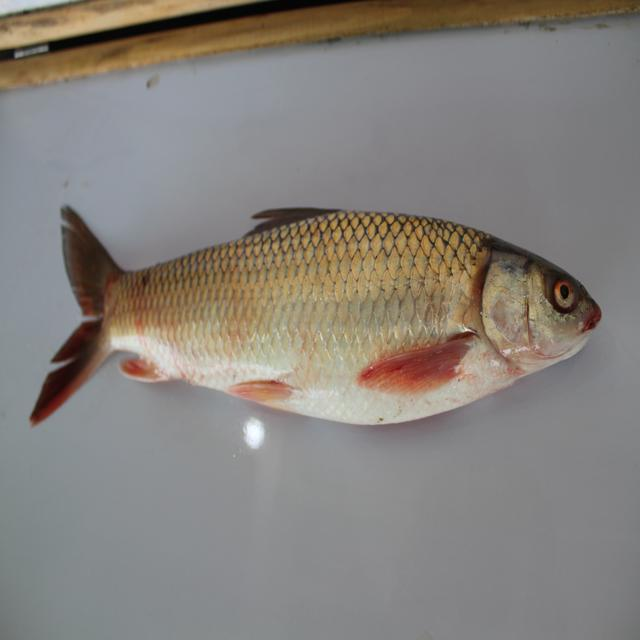Mori: (39, 181, 603, 468)
